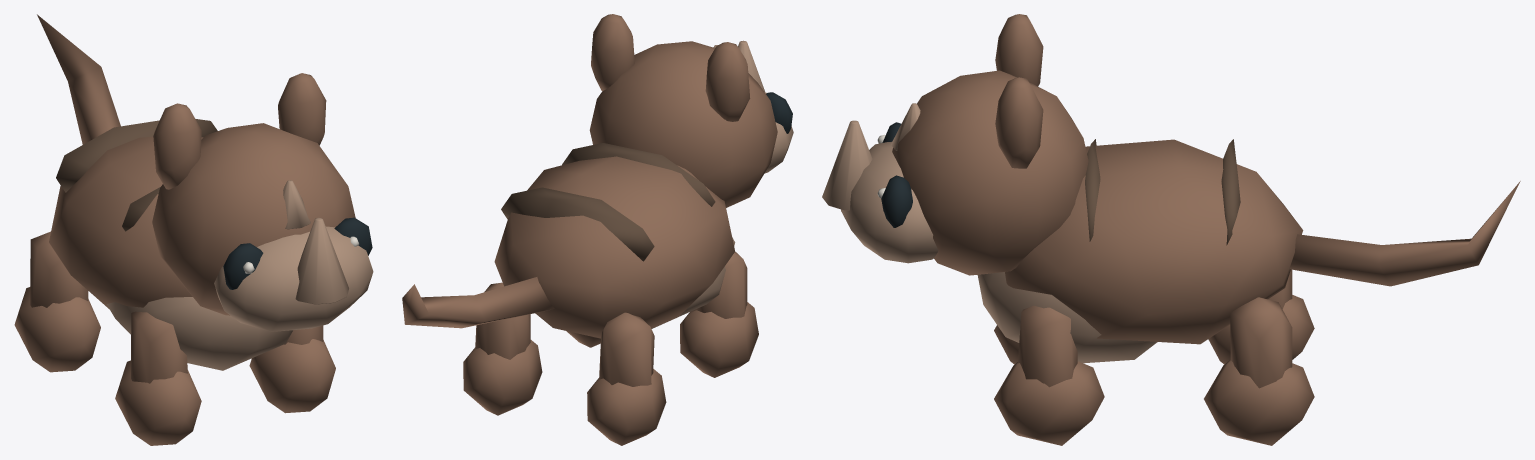
File: org_sumatranrhino.glb
3 renders of one model, left to right at view 1: azimuth 30°, elevation 25°; view 2: azimuth 150°, elevation 25°; view 3: azimuth 270°, elevation 25°, orthographic. The views are drawn at different scales.
Parts seen in each view (by area): view 1: Head, Body, Leg_FR, Leg_BR, Leg_FL, Tail, Eye_R, Eye_L; view 2: Body, Head, Leg_BR, Leg_BL, Leg_FR, Tail, Eye_R; view 3: Body, Head, Leg_BL, Leg_FL, Tail, Leg_BR, Eye_L.
Part boxes in pixels (left/top/right/bottom): Head: left=152, top=73, right=373, bottom=331; Body: left=49, top=119, right=292, bottom=370; Leg_FR: left=115, top=311, right=201, bottom=445; Leg_BR: left=14, top=231, right=100, bottom=372; Leg_FL: left=249, top=325, right=335, bottom=413; Tail: left=37, top=14, right=120, bottom=144; Eye_R: left=223, top=243, right=263, bottom=289; Eye_L: left=334, top=217, right=372, bottom=255; Body: left=494, top=143, right=735, bottom=338; Head: left=589, top=14, right=793, bottom=207; Leg_BR: left=587, top=312, right=666, bottom=445; Leg_BL: left=463, top=282, right=542, bottom=415; Leg_FR: left=680, top=251, right=758, bottom=377; Tail: left=402, top=277, right=554, bottom=328; Eye_R: left=766, top=92, right=792, bottom=133; Body: left=977, top=139, right=1303, bottom=363; Head: left=822, top=14, right=1088, bottom=275; Leg_BL: left=1204, top=297, right=1314, bottom=445; Leg_FL: left=994, top=305, right=1104, bottom=445; Tail: left=1289, top=181, right=1520, bottom=286; Leg_BR: left=1208, top=269, right=1314, bottom=364; Eye_L: left=877, top=175, right=912, bottom=227.
Size of the model in its own units: 0.5141 by 0.7908 by 1.39.
